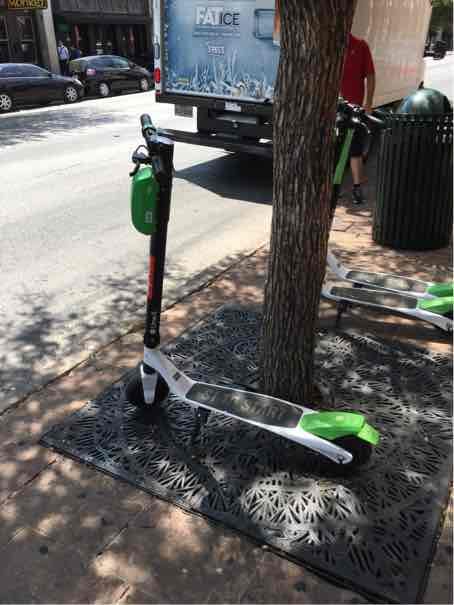scooter: (116, 110, 374, 467)
